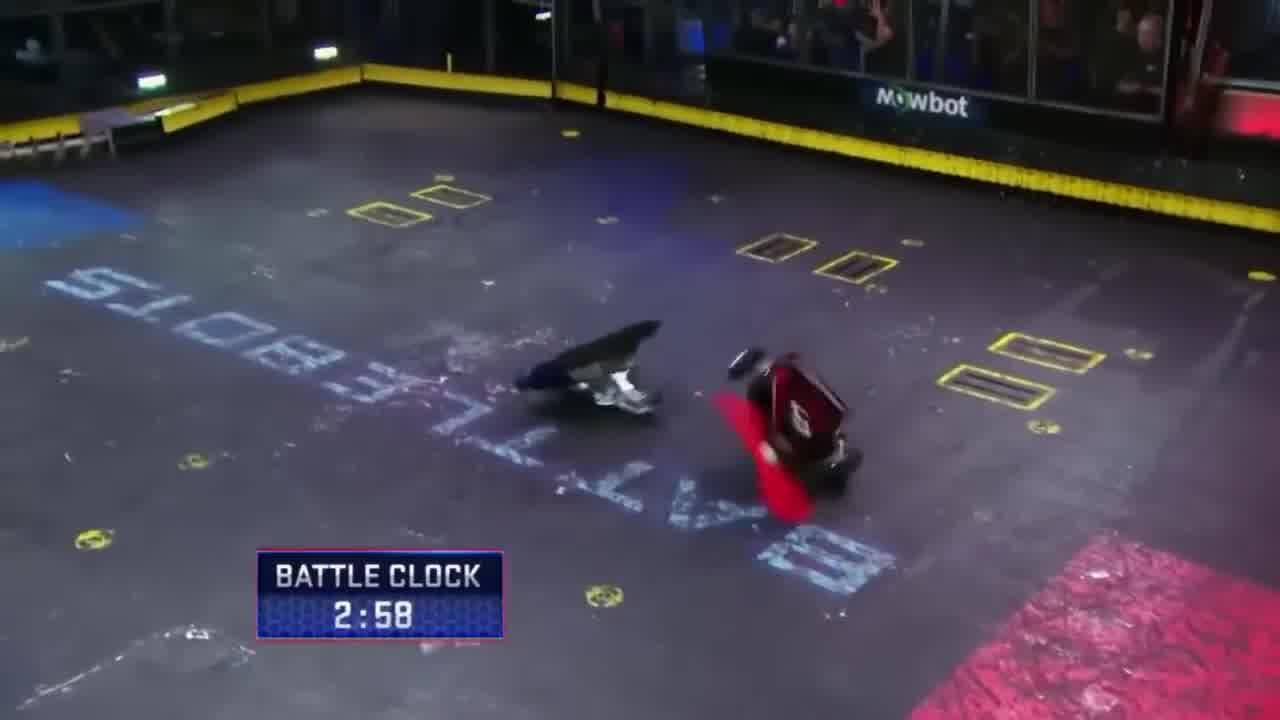combatbot: (721, 347, 865, 517), (512, 317, 669, 426)
